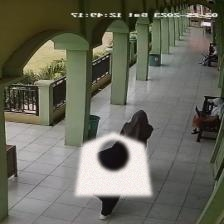Mukena: (75, 132, 151, 195)
